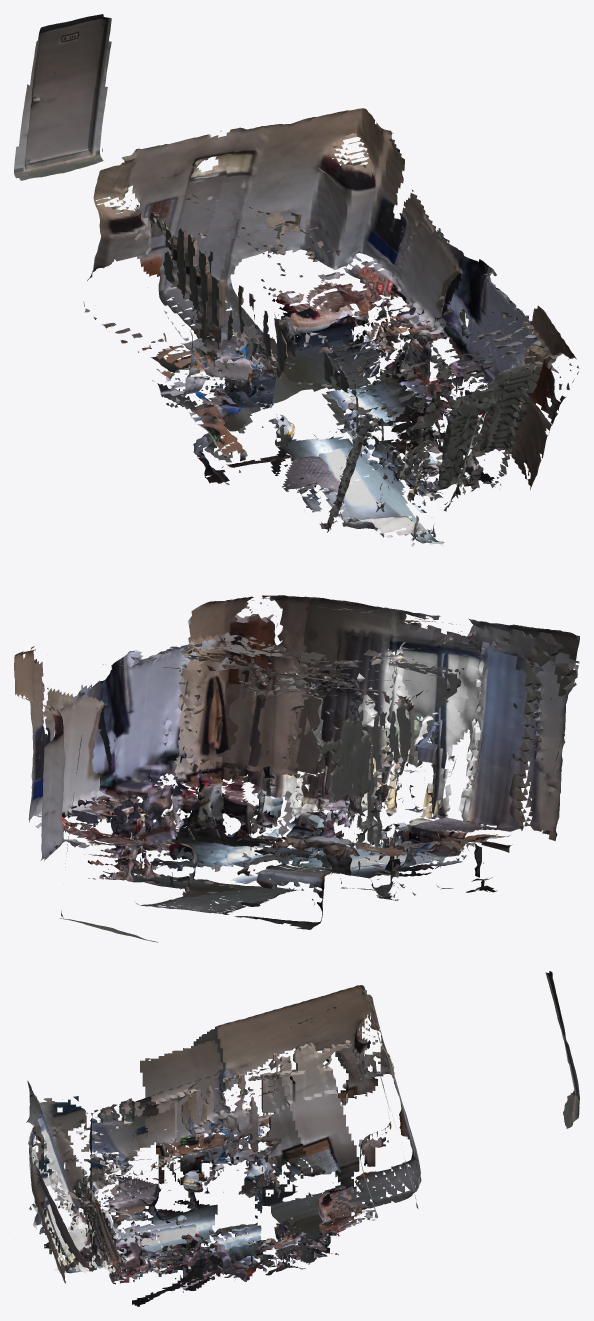
File: model_clean_textured.glb
The picture shows the model from 3 angles, top to bottom: view 1: azimuth 30°, elevation 25°; view 2: azimuth 150°, elevation 25°; view 3: azimuth 270°, elevation 25°; orthographic projection. The views are drawn at different scales.
Parts seen in each view (by area): view 1: model_clean_textured_canonical.obj; view 2: model_clean_textured_canonical.obj; view 3: model_clean_textured_canonical.obj.
Part boxes in pixels (box(x1,y1,x2,y2)): model_clean_textured_canonical.obj: box(14, 14, 579, 546); model_clean_textured_canonical.obj: box(14, 595, 579, 942); model_clean_textured_canonical.obj: box(26, 971, 579, 1306).
Bounding box in the file's own units: 1.64 × 1.62 × 3.17.
Materials: 1 (1 with a texture image).
